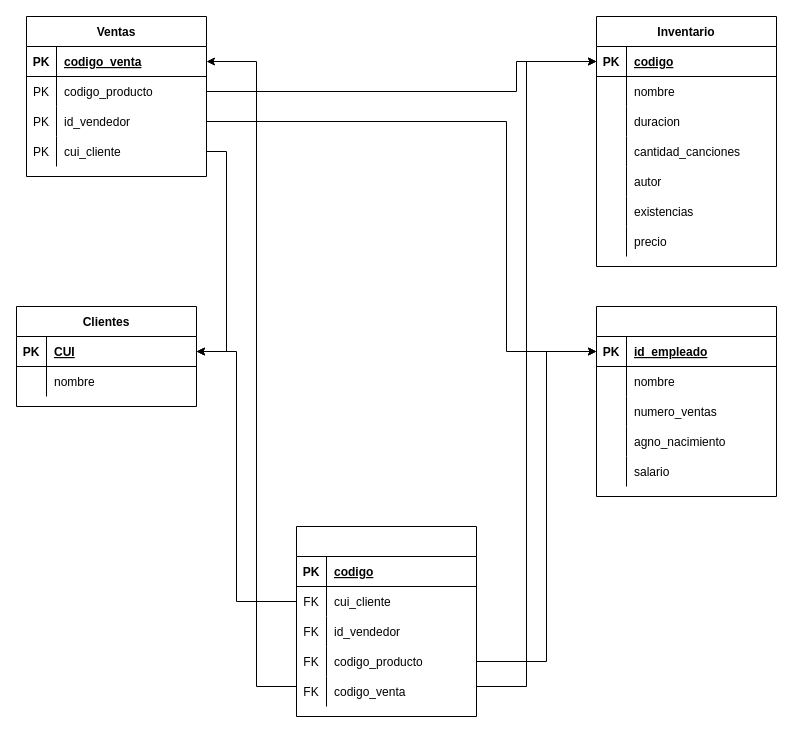
The diagram is 793 pixels wide and 733 high, and some of its shapes have lost their labels. The shapes that lost their labels are listed below. From the top down, each one's box as (x1, y1, x2, y2) in pixels, then its label:
(596, 306, 776, 496): Vendedor
(296, 526, 476, 716): Factura
